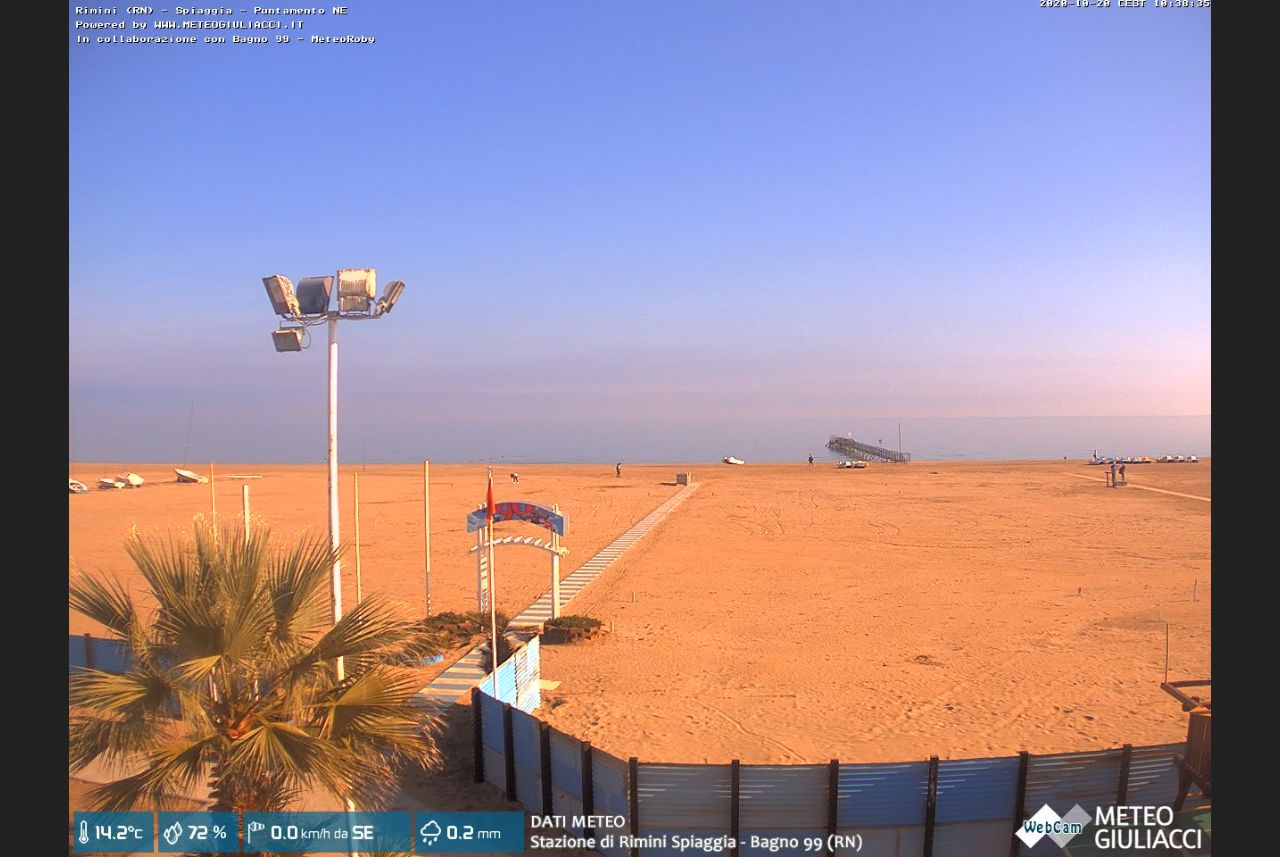no: (484, 476, 498, 530)
